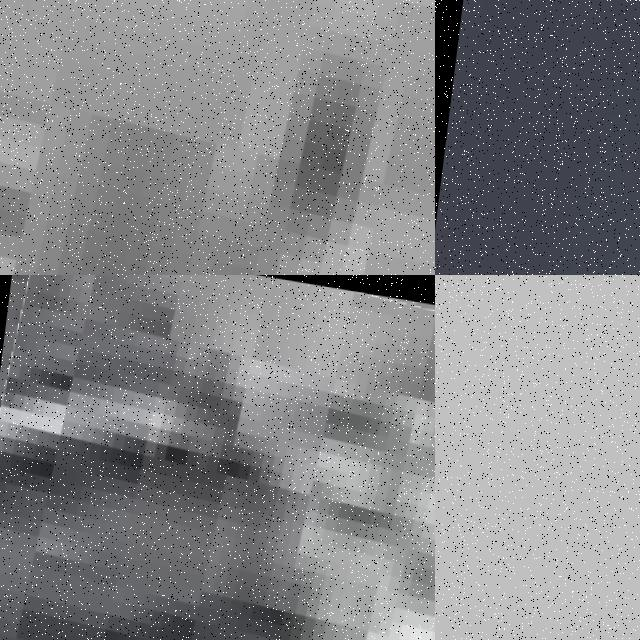drone: (0, 275, 435, 640), (0, 0, 435, 275)
